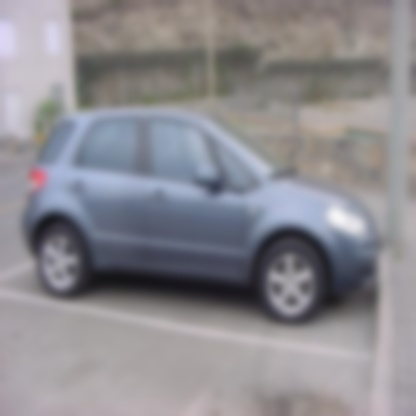Vehicle: (19, 106, 386, 327)
